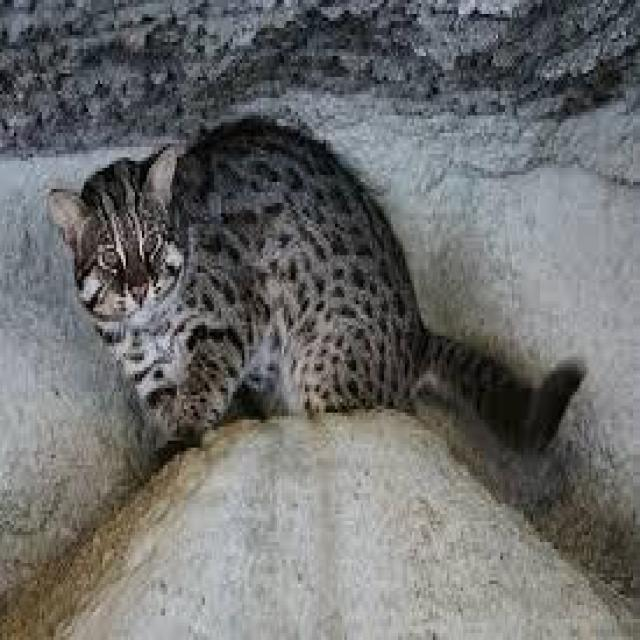leopard: (26, 110, 482, 602)
